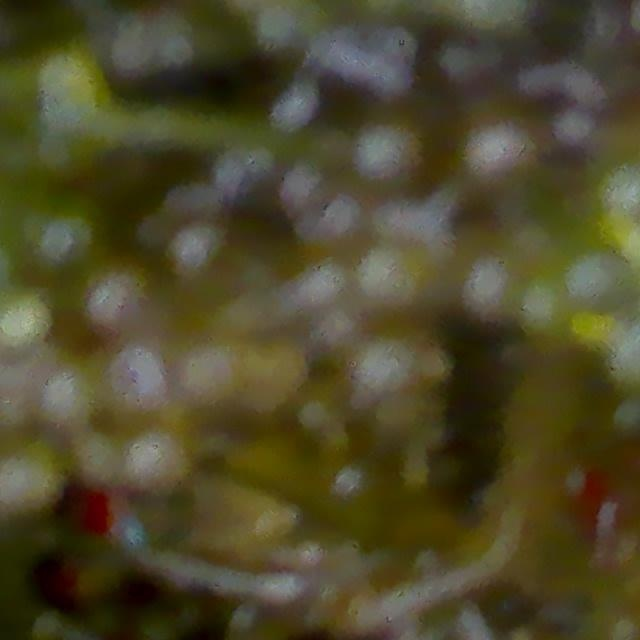SeaGrape: (335, 108, 428, 200), (82, 261, 176, 338), (165, 223, 248, 300), (19, 201, 101, 275), (470, 133, 526, 182)
